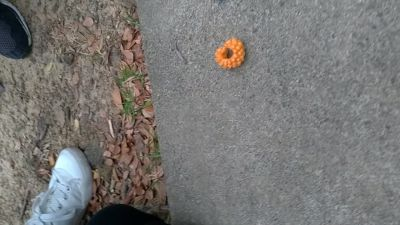eggs: (214, 38, 247, 72)
